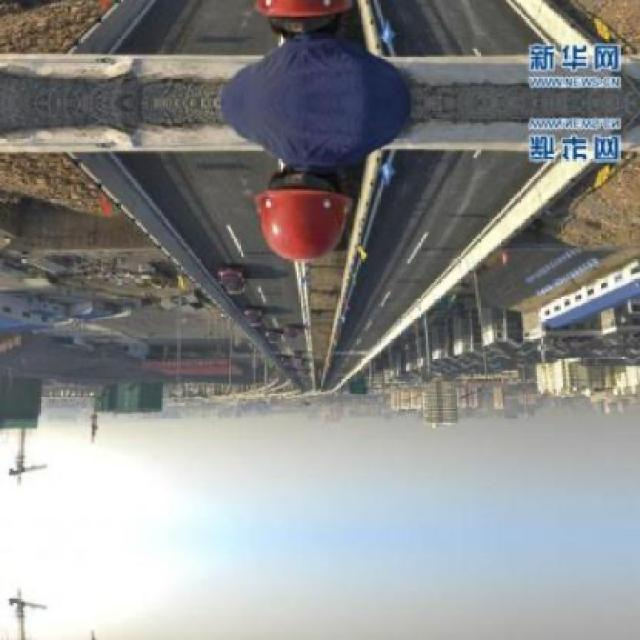con casco: (233, 100, 394, 278)
